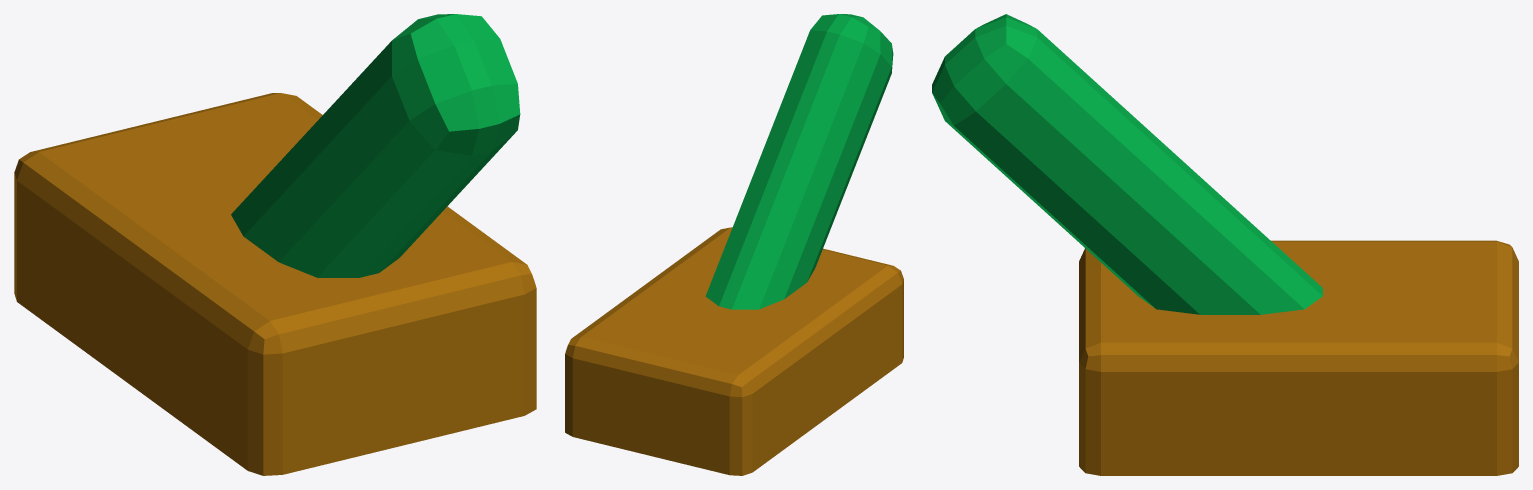
Rendered from Switch.fbx.
The picture shows the model from 3 angles, left to right: view 1: azimuth 30°, elevation 25°; view 2: azimuth 150°, elevation 25°; view 3: azimuth 270°, elevation 25°; orthographic projection. The views are drawn at different scales.
Parts seen in each view (by area): view 1: SwitchBase, SwitchHandle; view 2: SwitchBase, SwitchHandle; view 3: SwitchBase, SwitchHandle.
Boxes of the visible parts, x1=… form: SwitchBase: x1=14, y1=93, x2=536, y2=475; SwitchHandle: x1=231, y1=14, x2=520, y2=277; SwitchBase: x1=565, y1=227, x2=903, y2=475; SwitchHandle: x1=705, y1=14, x2=893, y2=309; SwitchBase: x1=1079, y1=240, x2=1518, y2=475; SwitchHandle: x1=932, y1=14, x2=1322, y2=314.
Size of the model in its own units: 32.29 by 49.6 by 66.86.
